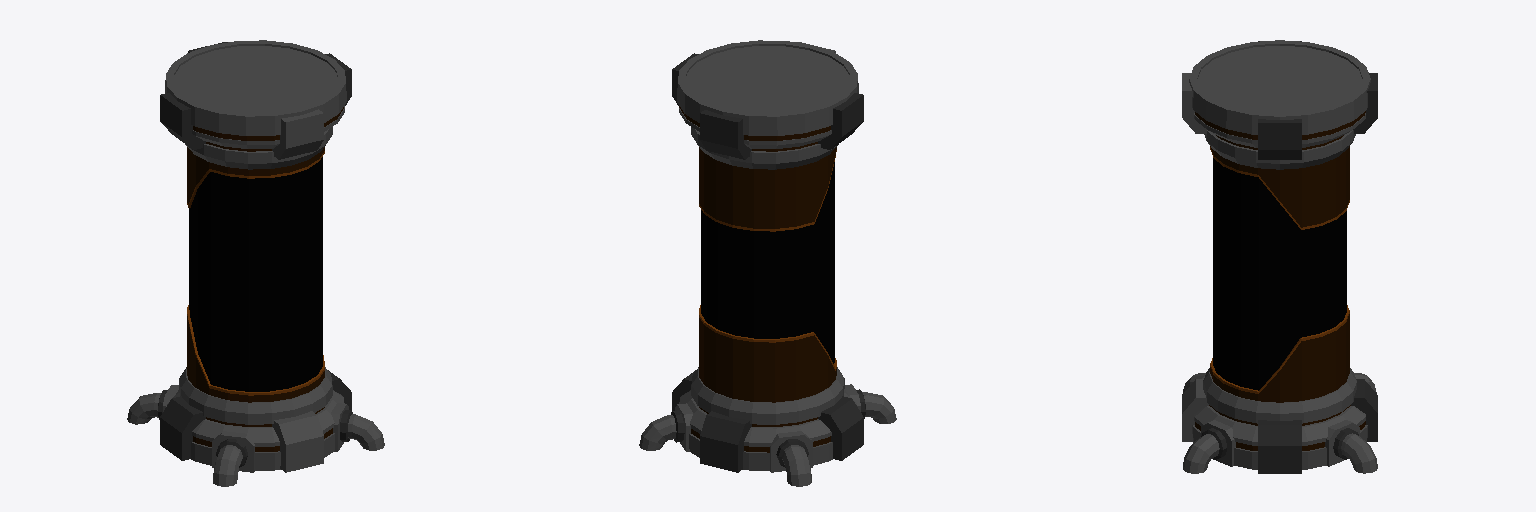
The model's file is Props_Pod.obj.
3 views of the same model, side by side, from view 1: azimuth 30°, elevation 25°; view 2: azimuth 150°, elevation 25°; view 3: azimuth 270°, elevation 25° (orthographic).
Visible parts, largest first — view 1: Props_Pod_Cube.003; view 2: Props_Pod_Cube.003; view 3: Props_Pod_Cube.003.
Part boxes in pixels (left/top/right/bottom): Props_Pod_Cube.003: left=127, top=40, right=384, bottom=486; Props_Pod_Cube.003: left=639, top=40, right=896, bottom=486; Props_Pod_Cube.003: left=1182, top=40, right=1377, bottom=473.
Bounding box in the file's own units: 1.81 × 3.61 × 1.81.